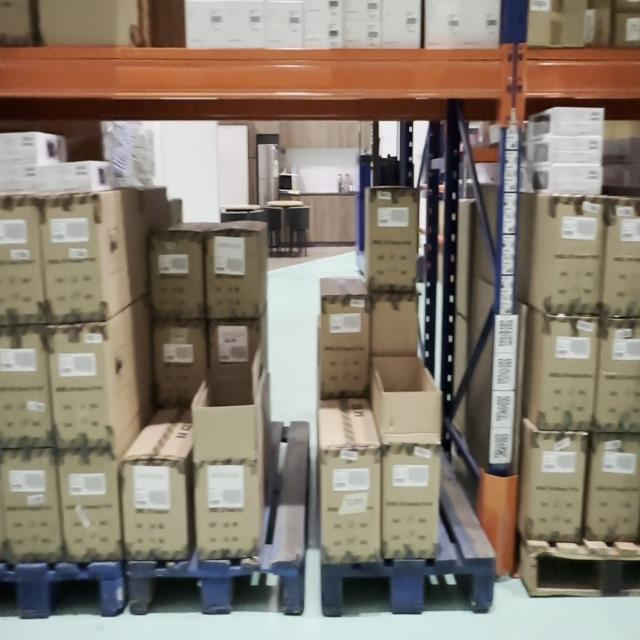box: (121, 459, 190, 557), (385, 446, 438, 558), (325, 449, 377, 559), (194, 457, 256, 549), (322, 295, 370, 397), (369, 196, 418, 290), (206, 235, 262, 316), (150, 238, 203, 314)
